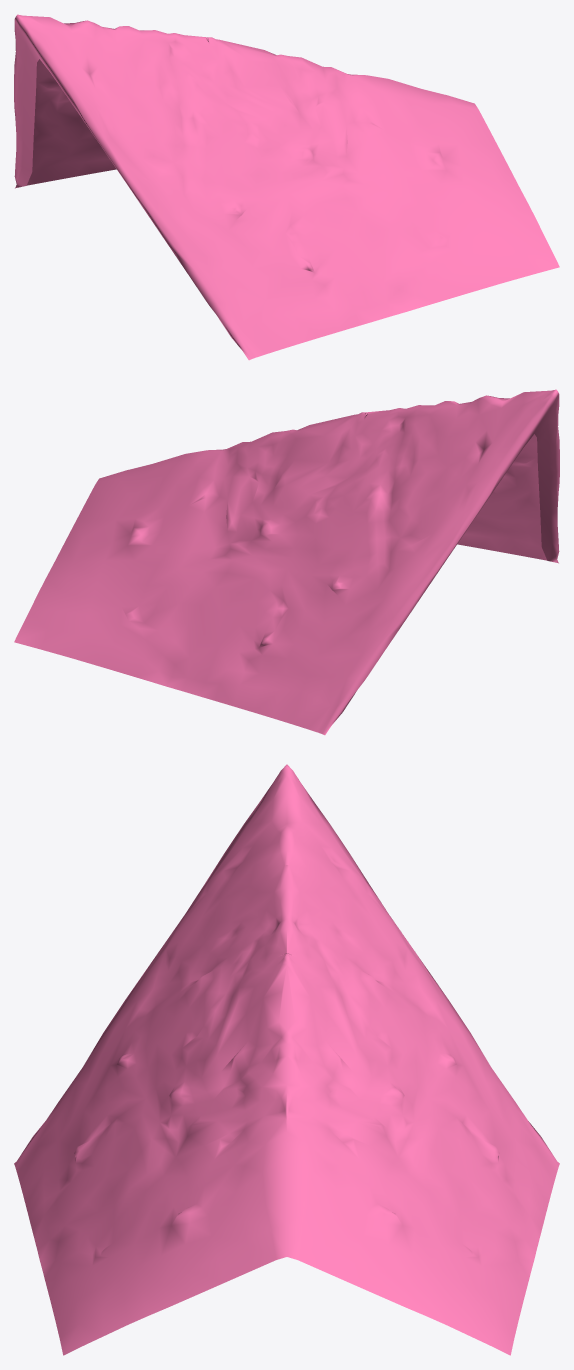
File: Cookielow.fbx
3 views of the same model, one above another, from view 1: azimuth 30°, elevation 25°; view 2: azimuth 150°, elevation 25°; view 3: azimuth 270°, elevation 25° (orthographic). The views are drawn at different scales.
Visible parts, largest first — view 1: Cookielow; view 2: Cookielow; view 3: Cookielow.
Boxes of the visible parts, <box> form: Cookielow: <box>14,14,559,360</box>; Cookielow: <box>14,389,559,735</box>; Cookielow: <box>14,764,559,1355</box>.
Size of the model in its own units: 610 by 370 by 540.
